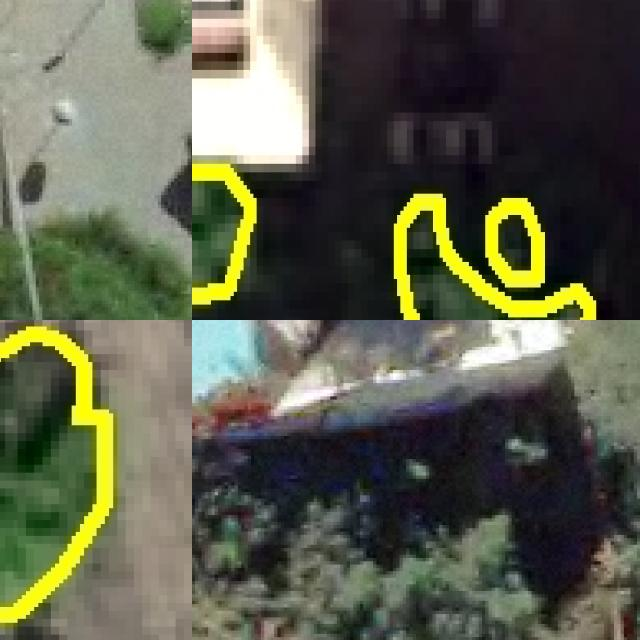trees: (193, 513, 542, 640), (1, 331, 106, 616), (398, 199, 591, 321), (37, 216, 193, 321), (193, 165, 251, 297), (490, 203, 538, 280)
